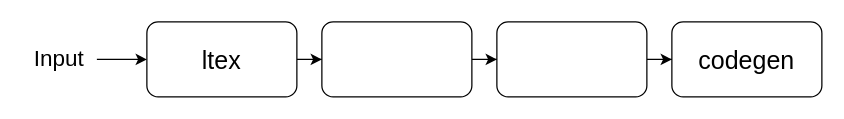
This 844x119 diagram has some shape labels left out. Each missing label, with the box of its shape:
IR: (496, 21, 647, 97)
parse: (321, 21, 472, 97)
